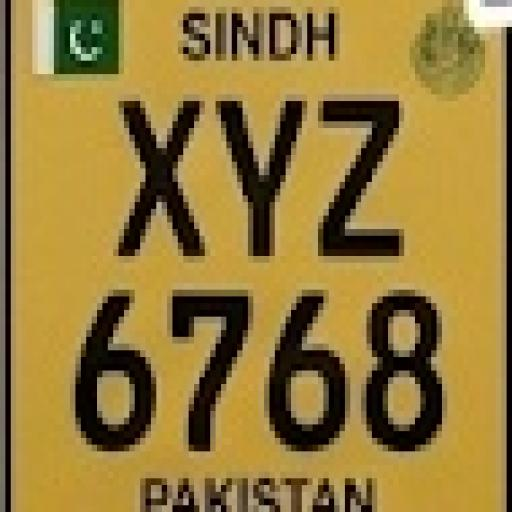6: (264, 283, 354, 460), (68, 282, 157, 460)
7: (167, 284, 253, 457)
8: (365, 284, 449, 462)
X: (107, 88, 213, 276)
Y: (216, 80, 308, 268)
Z: (314, 82, 416, 264)
